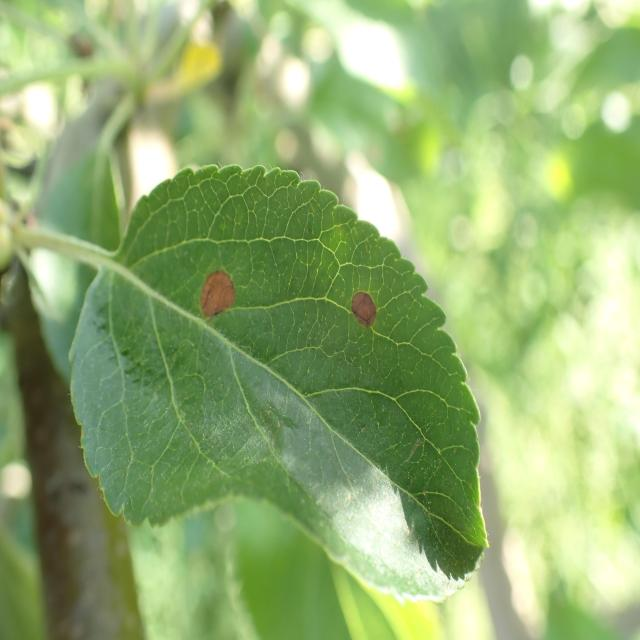Black Rot: (185, 249, 245, 331), (344, 272, 391, 357)
